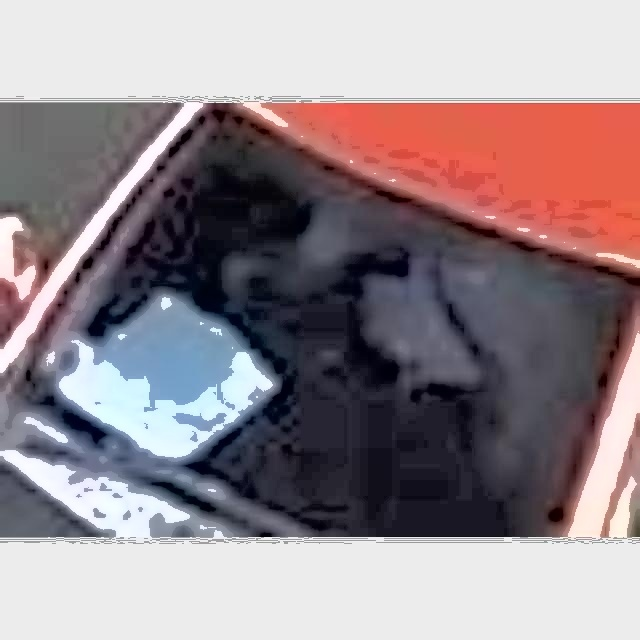pakai: (298, 209, 541, 432)
